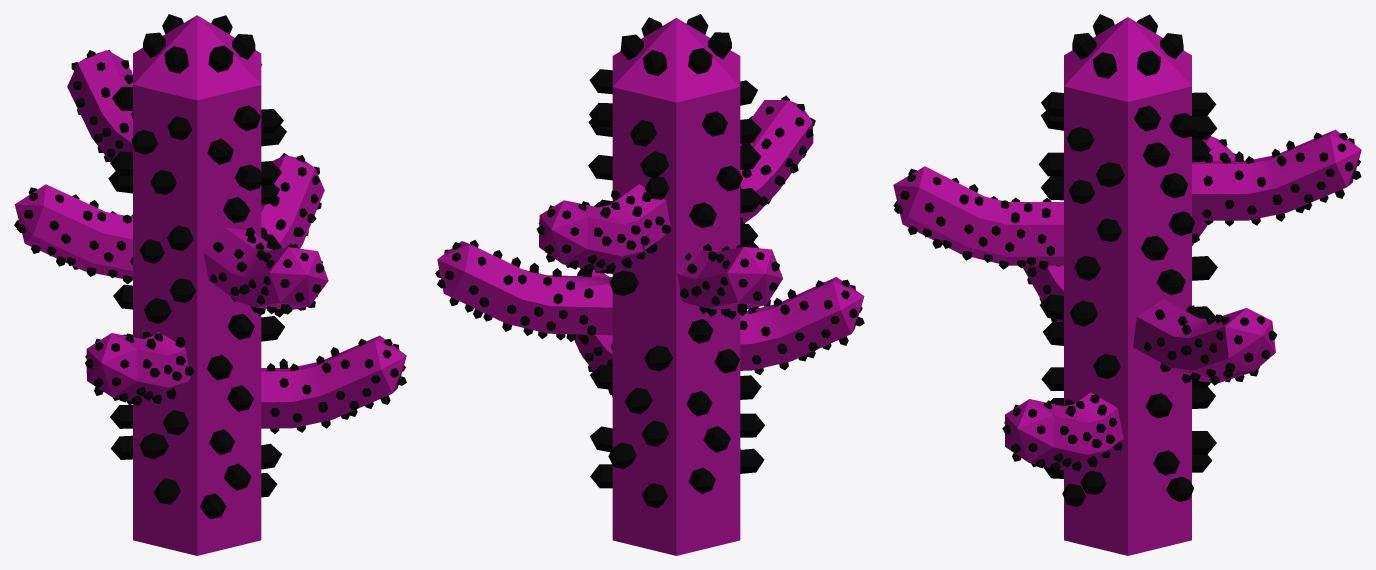
Rendered from Cactus_Final.fbx.
3 renders of one model, left to right at view 1: azimuth 30°, elevation 25°; view 2: azimuth 150°, elevation 25°; view 3: azimuth 270°, elevation 25°, orthographic.
Parts seen in each view (by area): view 1: Body_Lowpoly, Arm5, Arm3, Arm1, Arm2, Arm4, Arm6; view 2: Body_Lowpoly, Arm6, Arm4, Arm2, Arm3, Arm1, Arm5; view 3: Body_Lowpoly, Arm1, Arm4, Arm6, Arm5, Arm2, Arm3.
Boxes of the visible parts, bbox=[...] form: Body_Lowpoly: bbox=[108, 14, 286, 555]; Arm5: bbox=[261, 335, 406, 433]; Arm3: bbox=[14, 184, 132, 284]; Arm1: bbox=[203, 227, 328, 317]; Arm2: bbox=[85, 332, 194, 405]; Arm4: bbox=[67, 50, 132, 162]; Arm6: bbox=[261, 153, 324, 248]; Body_Lowpoly: bbox=[588, 14, 764, 555]; Arm6: bbox=[435, 240, 612, 341]; Arm4: bbox=[536, 184, 671, 273]; Arm2: bbox=[740, 277, 864, 374]; Arm3: bbox=[677, 243, 782, 319]; Arm1: bbox=[740, 95, 815, 223]; Arm5: bbox=[574, 269, 612, 397]; Body_Lowpoly: bbox=[1038, 14, 1217, 555]; Arm1: bbox=[893, 166, 1063, 270]; Arm4: bbox=[1192, 129, 1361, 226]; Arm6: bbox=[1133, 299, 1277, 385]; Arm5: bbox=[1002, 392, 1123, 472]; Arm2: bbox=[1023, 265, 1063, 321]; Arm3: bbox=[1192, 136, 1235, 245].
Bounding box in the file's own units: 9.17 × 13.61 × 11.38.
